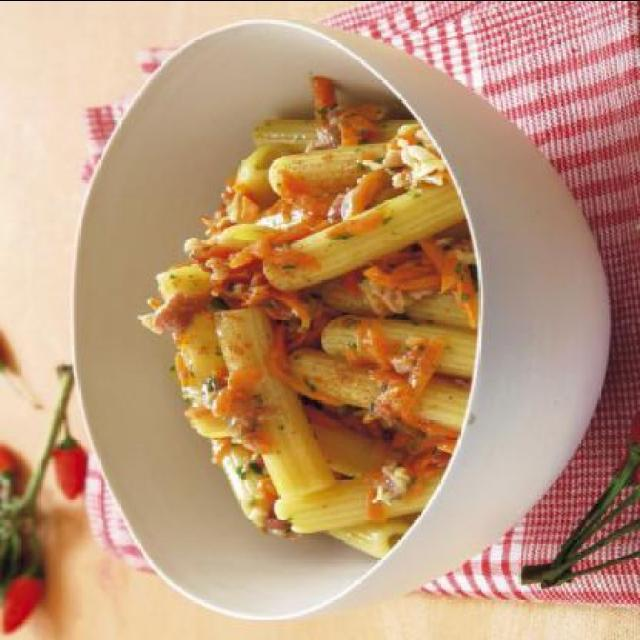Pasta with carbonara sauce: (110, 5, 542, 598)
